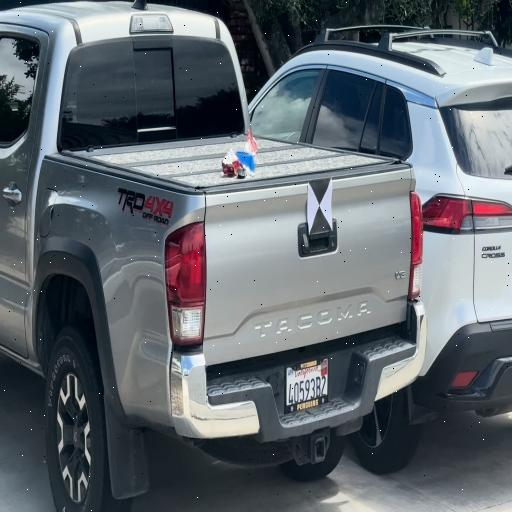target: (309, 179, 332, 230)
